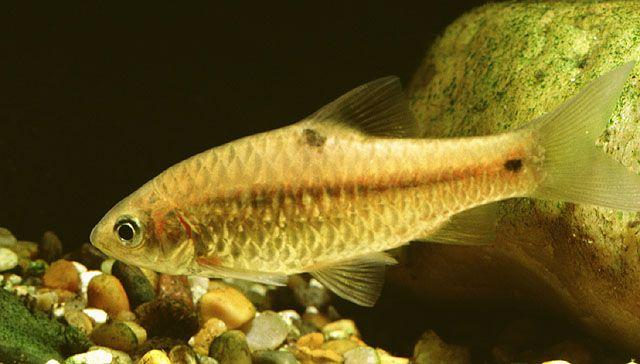Black Spotted Barb: (90, 61, 640, 309)
